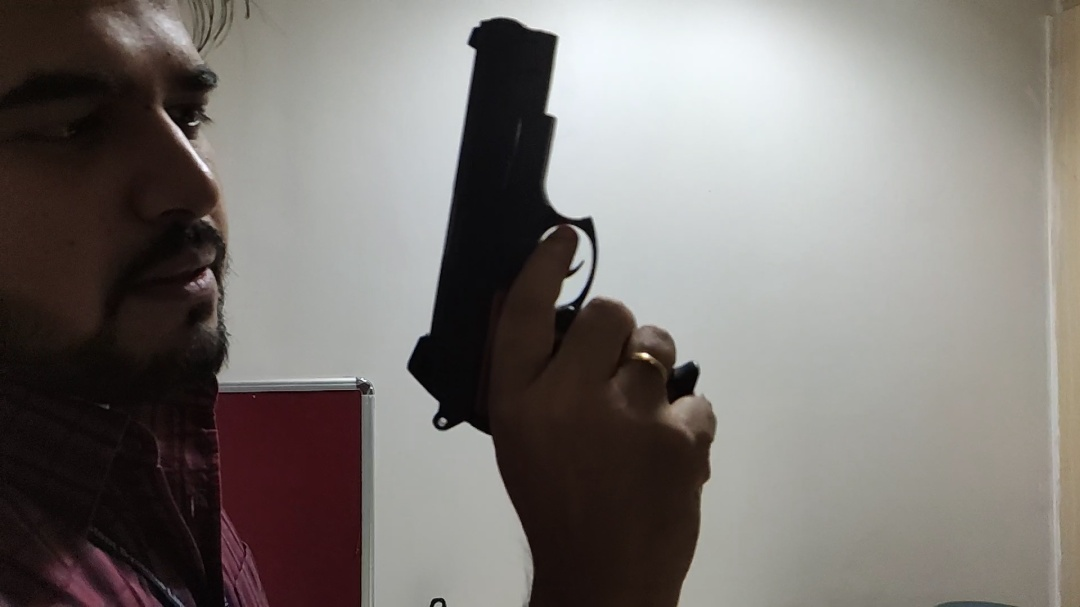gun: (404, 14, 706, 442)
